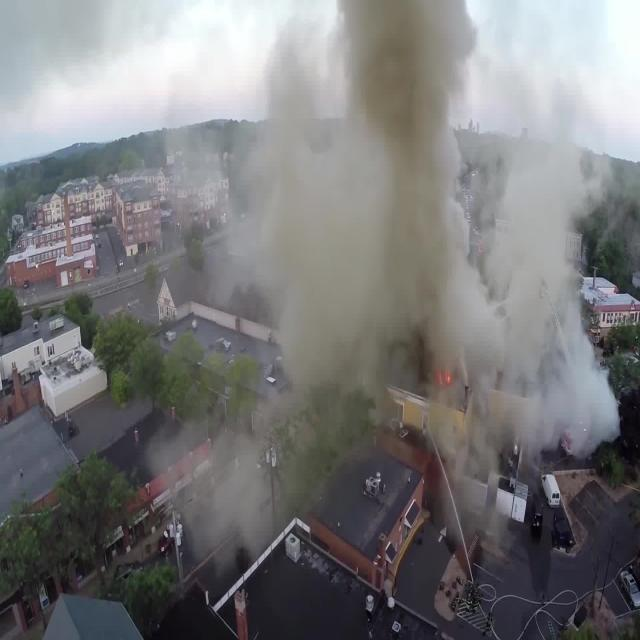Fire: (432, 369, 462, 397)
Smoke: (198, 0, 618, 566)
